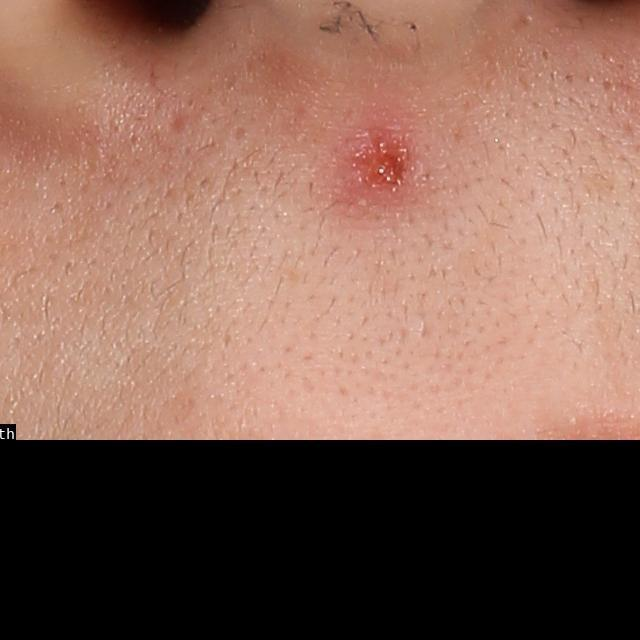atrophic_scar: (167, 106, 196, 137)
papule: (357, 139, 412, 194)
